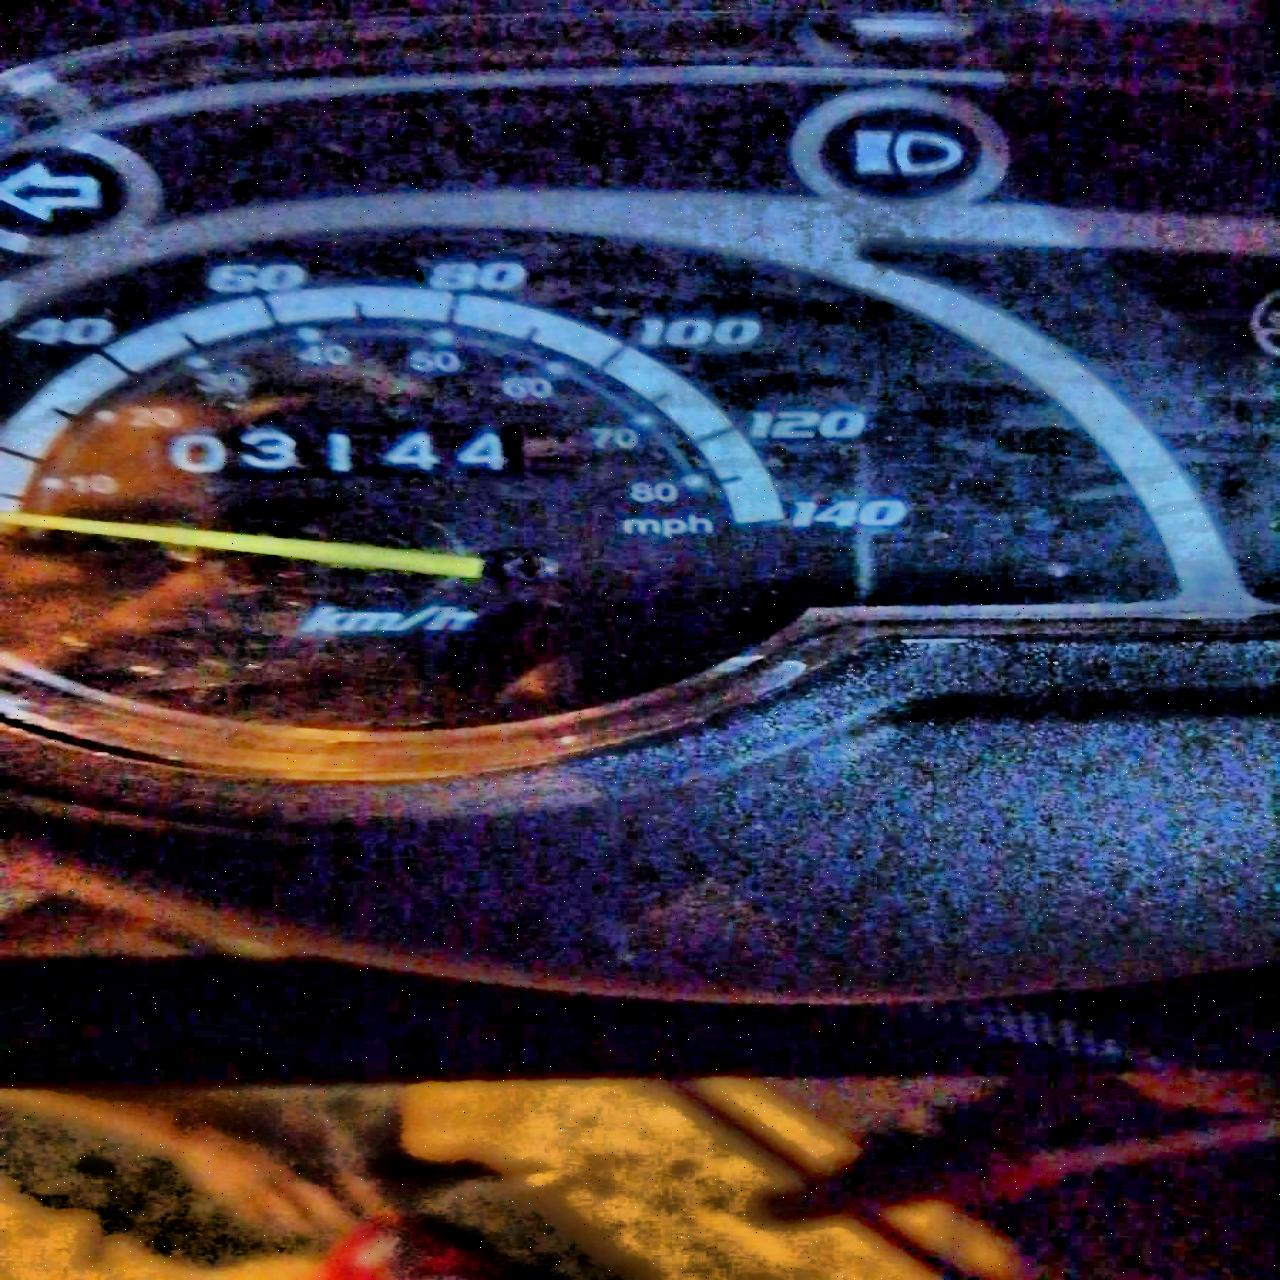0: (164, 430, 226, 474)
1: (325, 431, 359, 474)
3: (240, 430, 300, 471)
4: (377, 429, 440, 472), (452, 430, 509, 470)
odometer: (145, 427, 557, 489)
